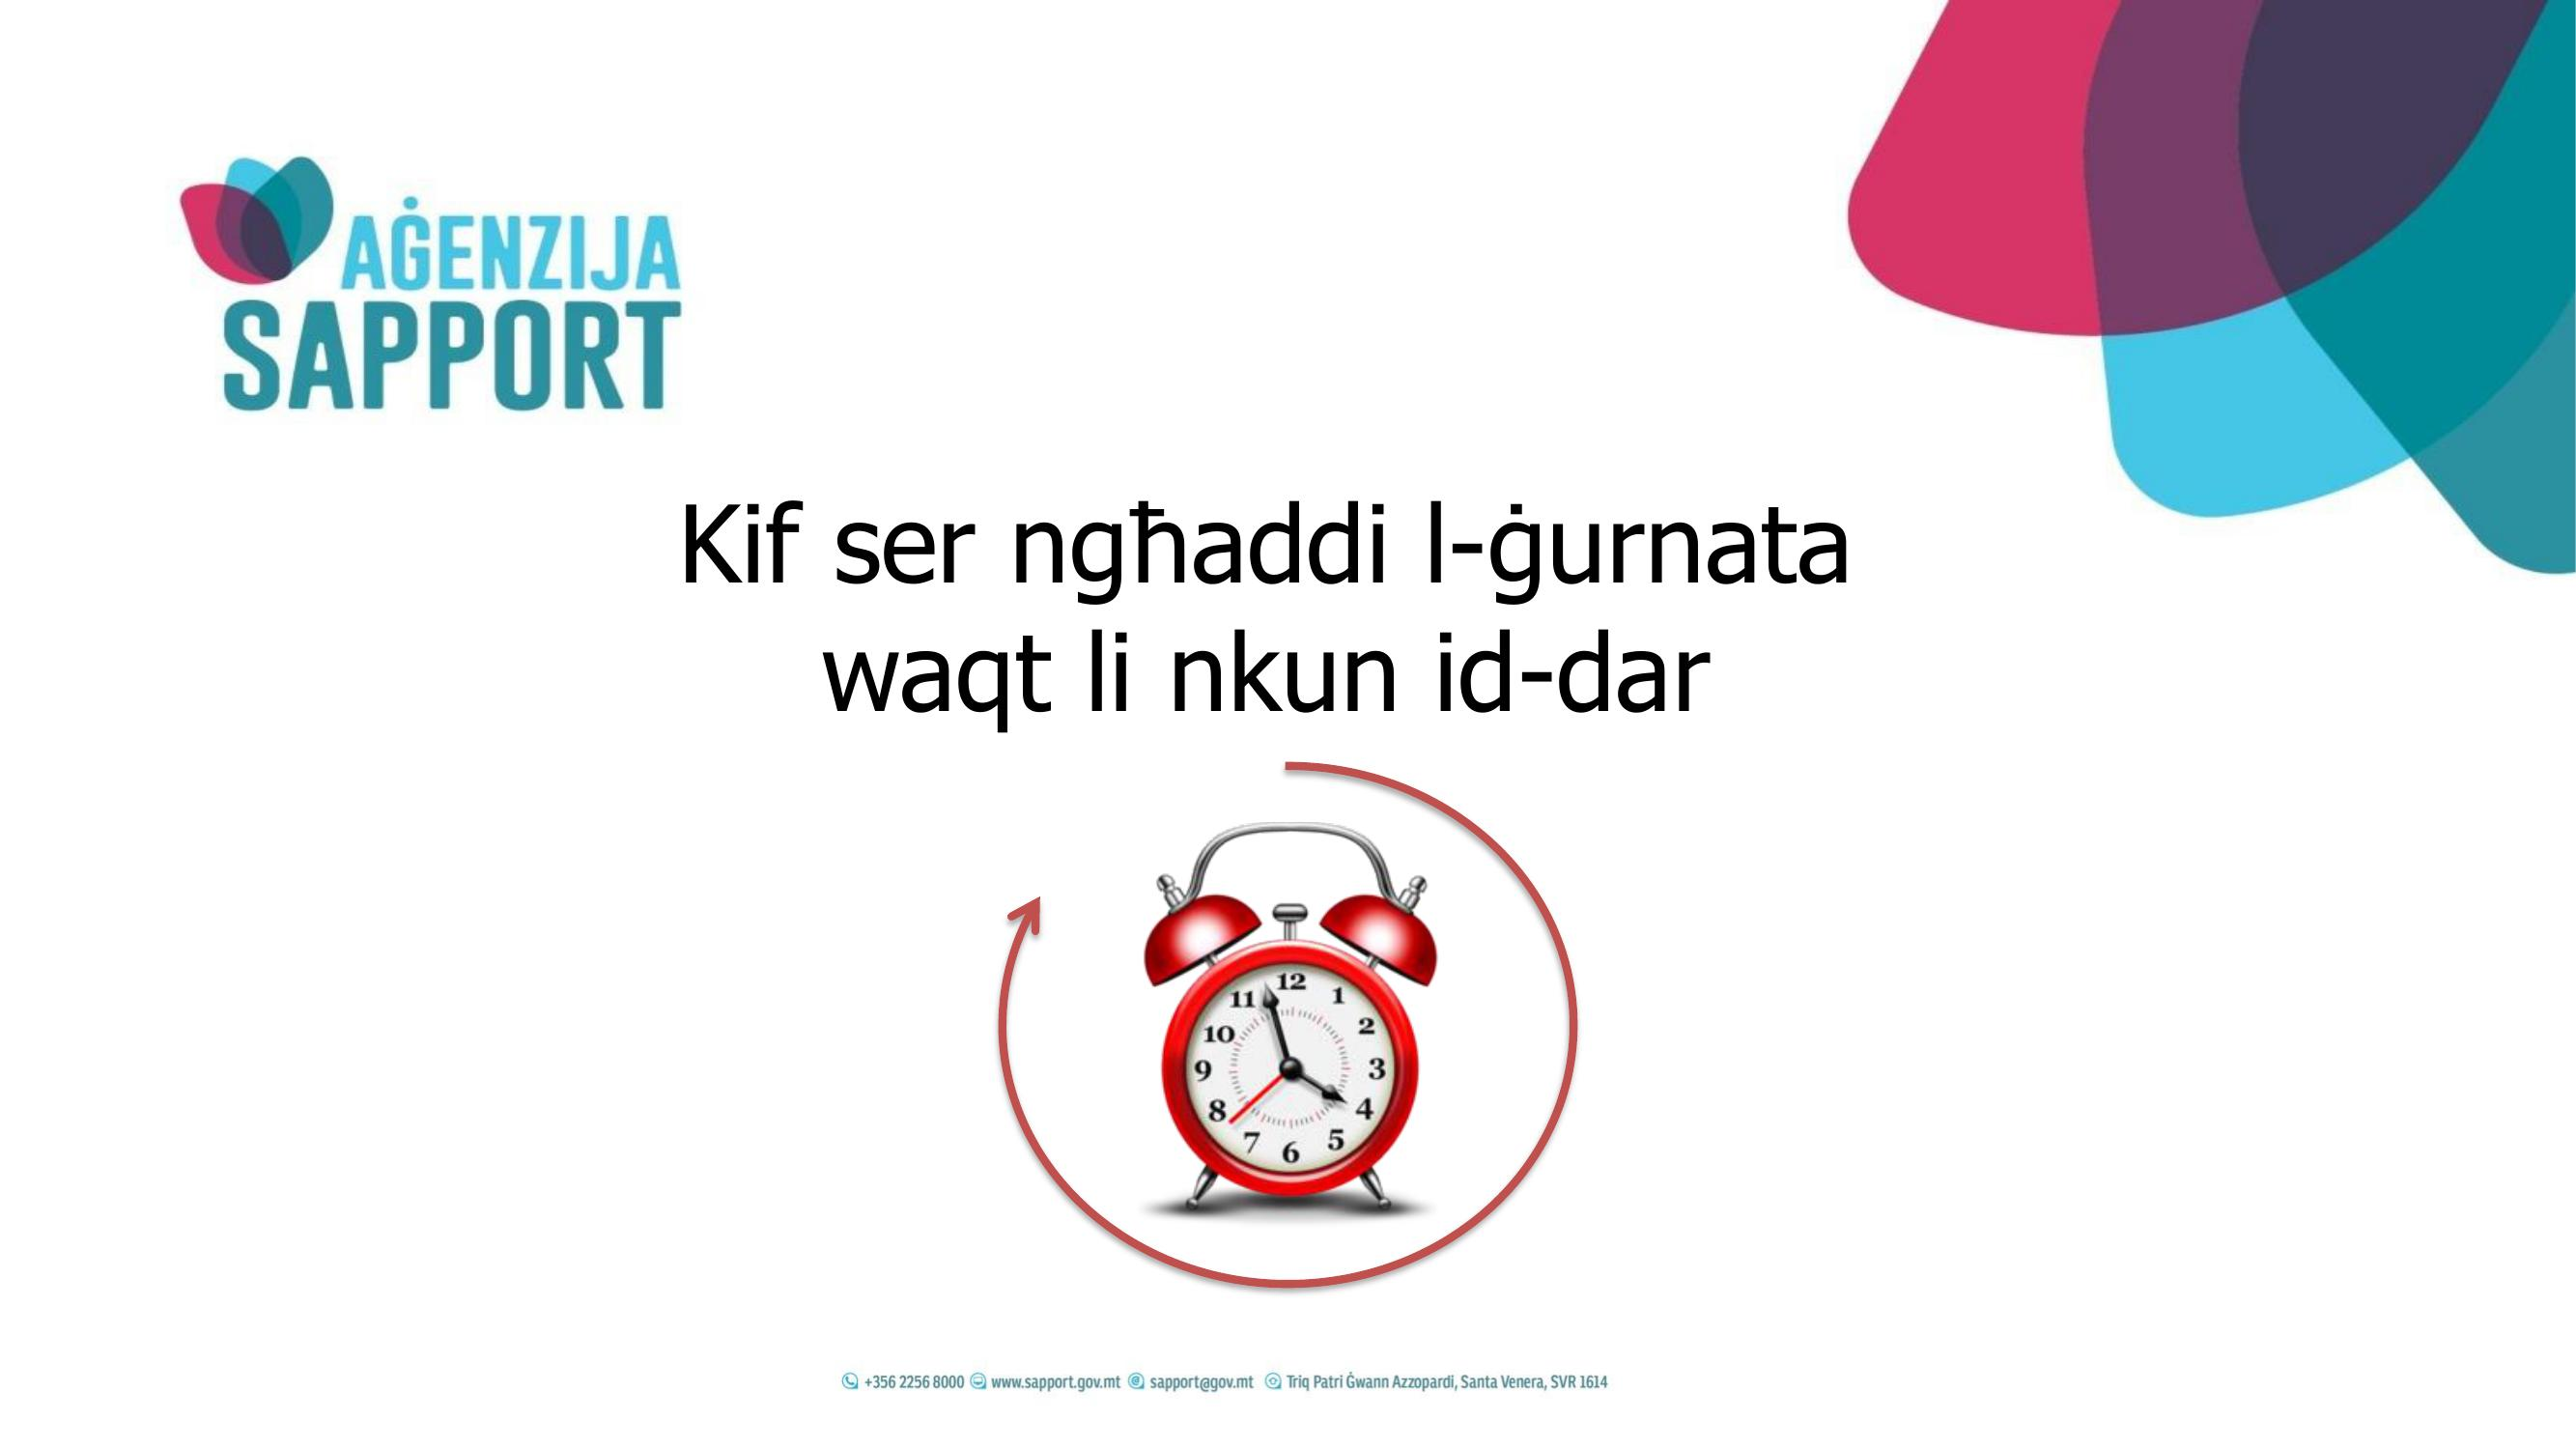text: (662, 444, 1874, 734)
